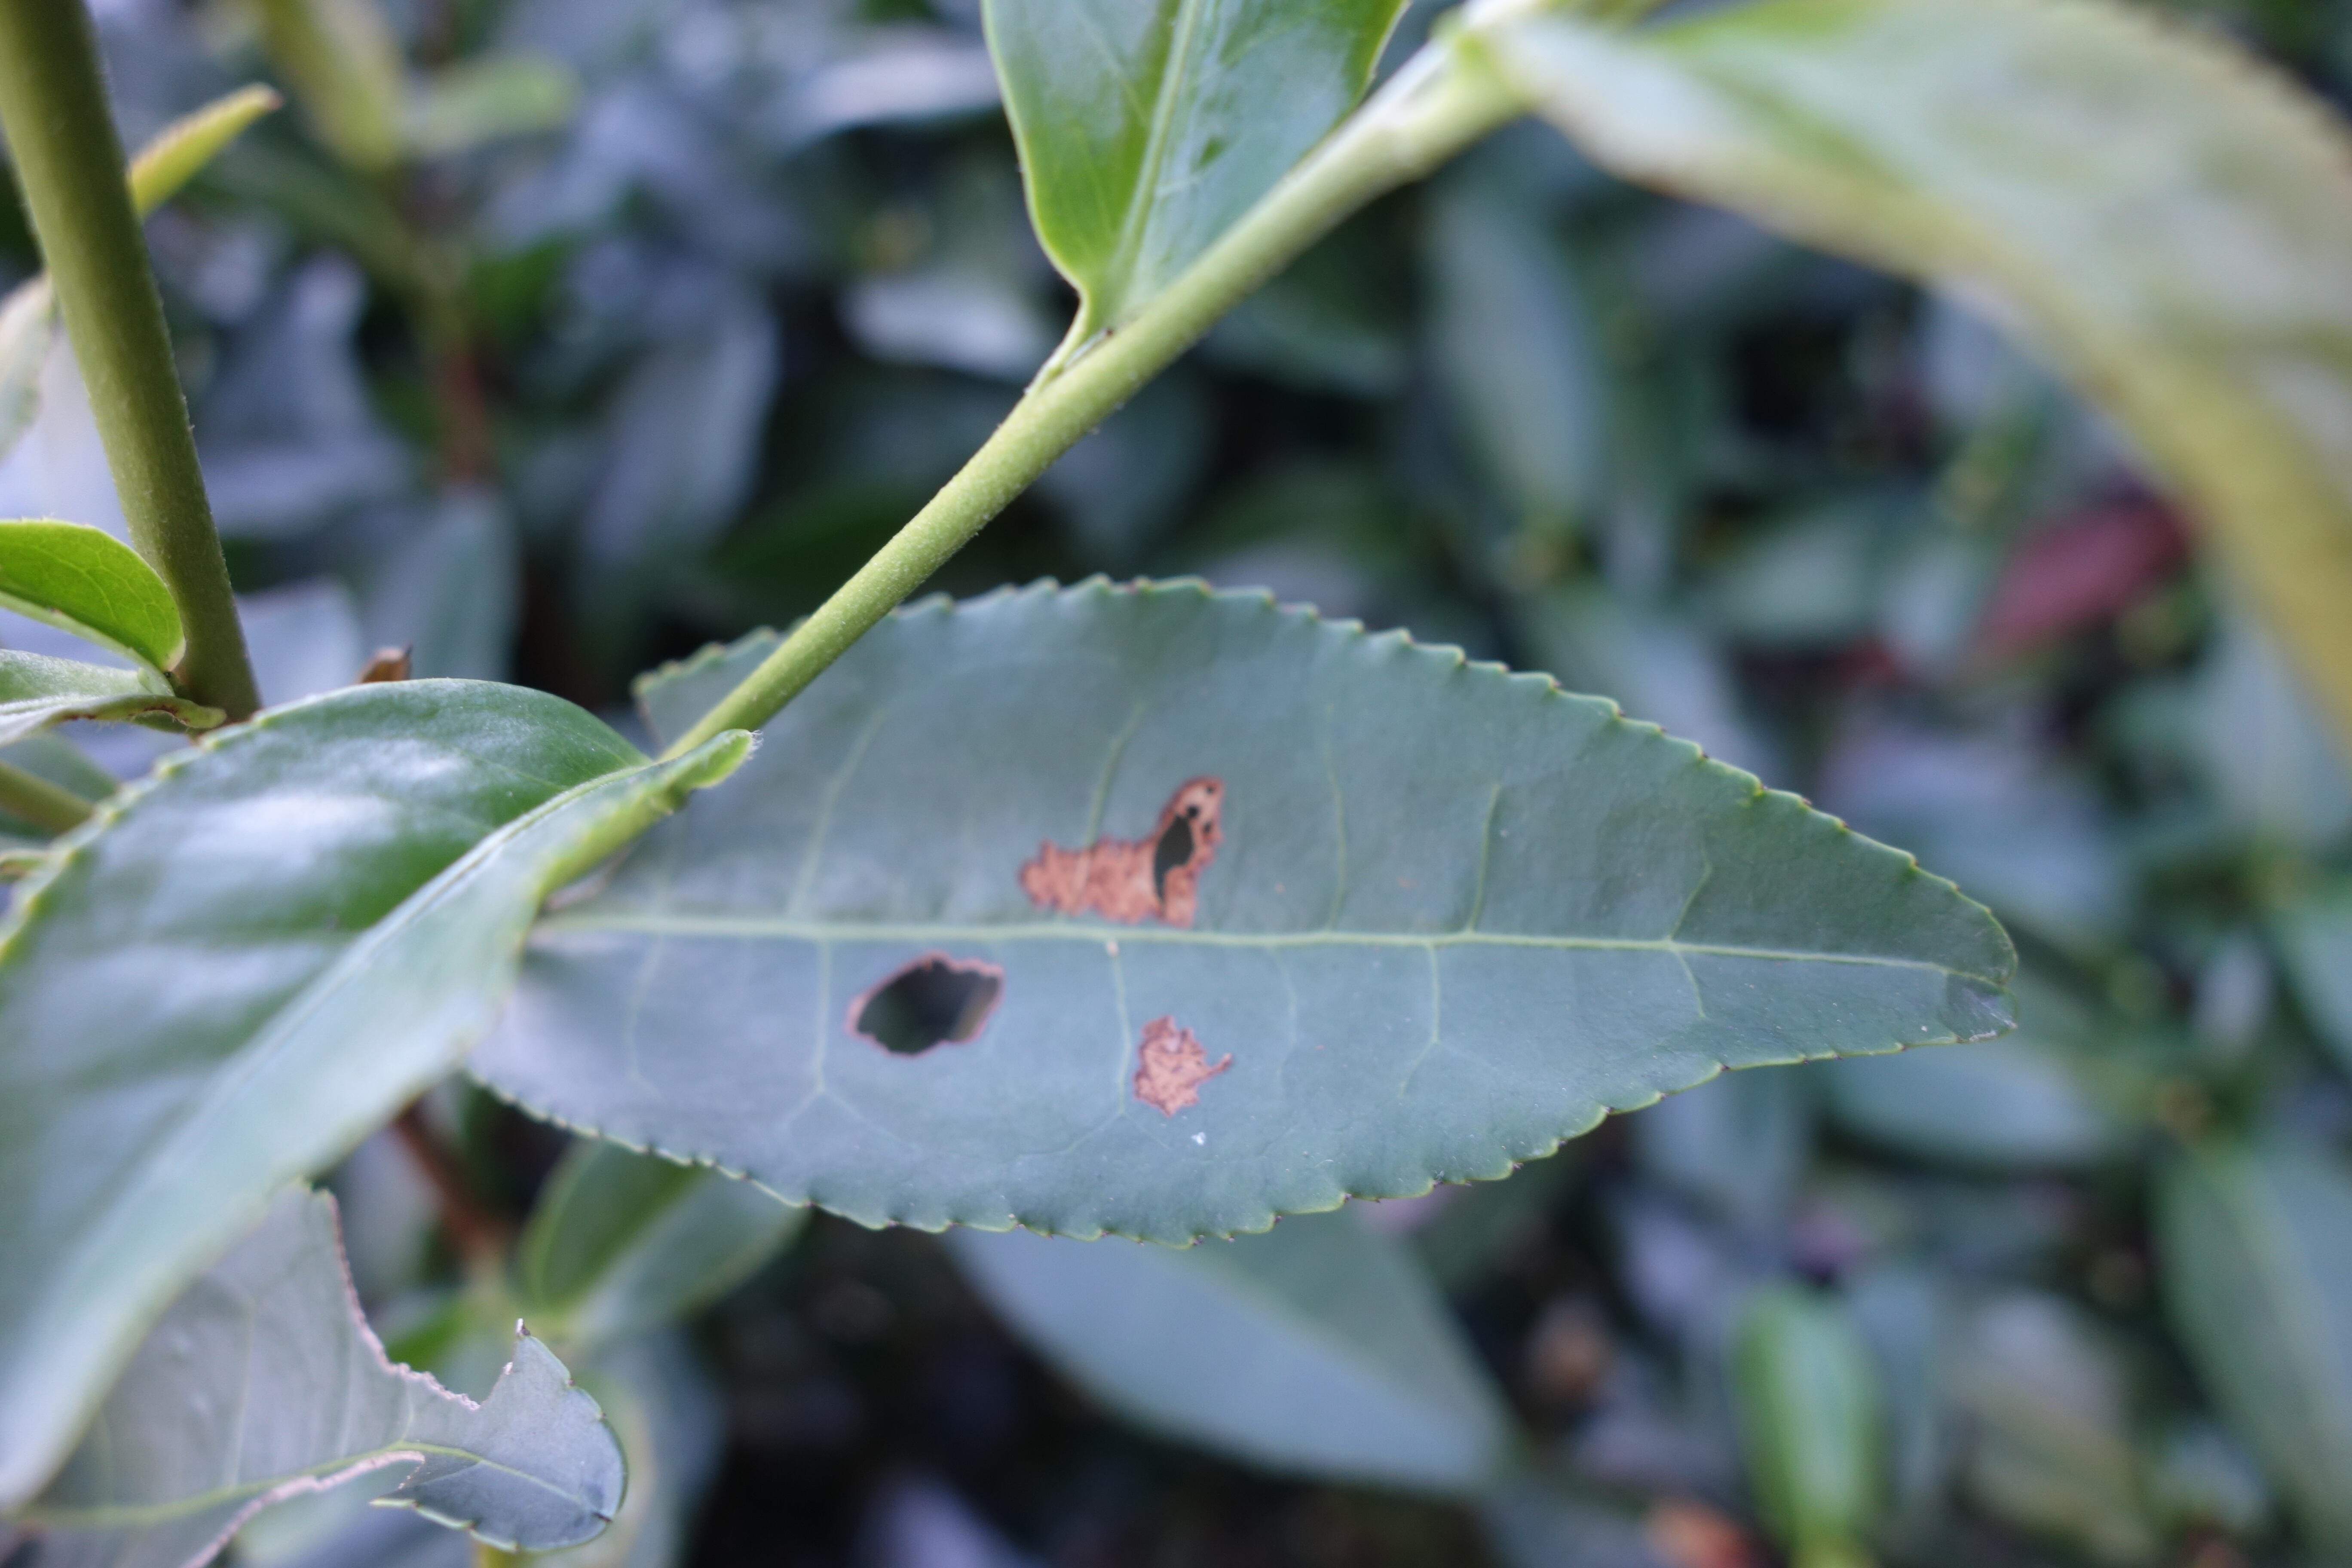chihuo_high: (40, 1186, 632, 1561)
tanju_high: (472, 570, 2019, 1246)
tanju_low: (1526, 5, 2352, 724)
